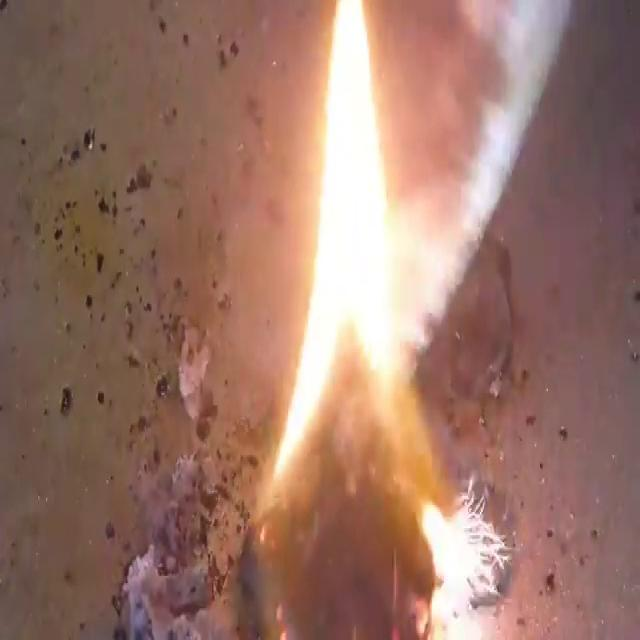Fire: (4, 2, 579, 638)
